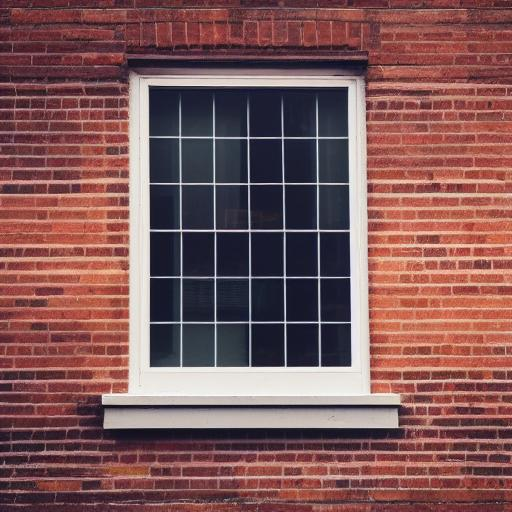Window: (99, 44, 404, 433)
